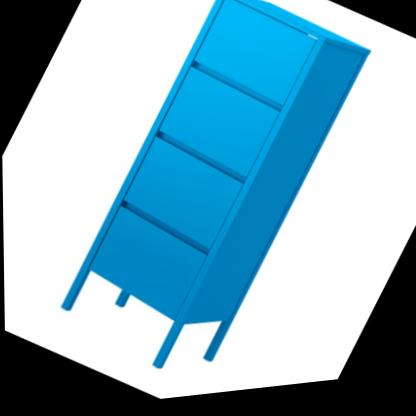Cabinet: (37, 0, 380, 409)
